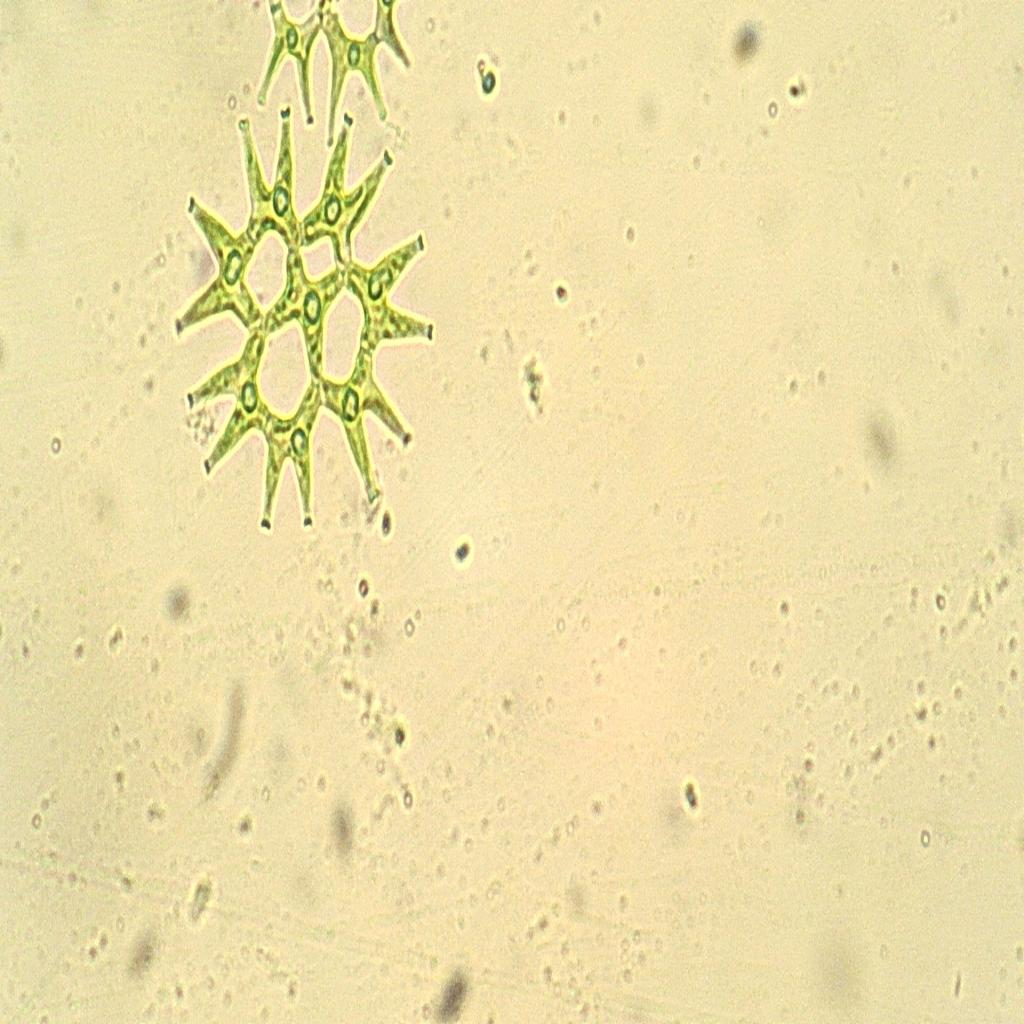Pediastrum_1T: (166, 94, 446, 547)
